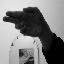h: (2, 6, 45, 36)
